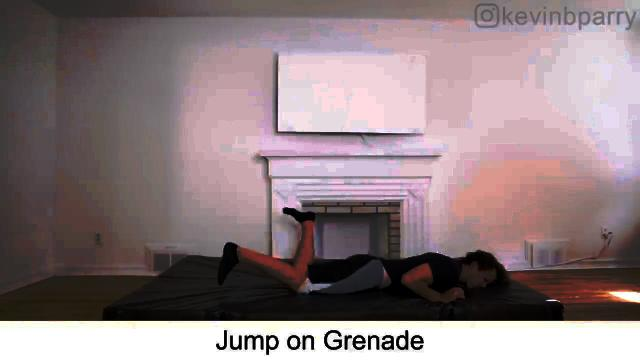jatuh: (206, 197, 518, 315)
